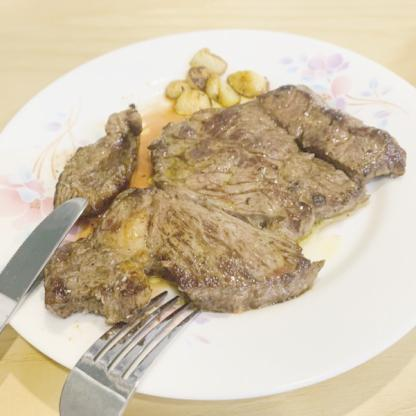Carne: (146, 104, 358, 236), (146, 192, 316, 298), (252, 82, 406, 184), (42, 188, 158, 321), (61, 106, 142, 228)
